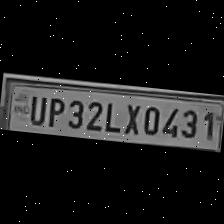0: (138, 101, 161, 137)
1: (199, 107, 220, 141)
2: (82, 96, 104, 132)
3: (177, 104, 200, 140), (63, 94, 85, 130)
4: (158, 102, 181, 138)
L: (100, 98, 123, 134)
P: (44, 93, 66, 129)
U: (25, 92, 47, 126)
X: (120, 100, 142, 136)
